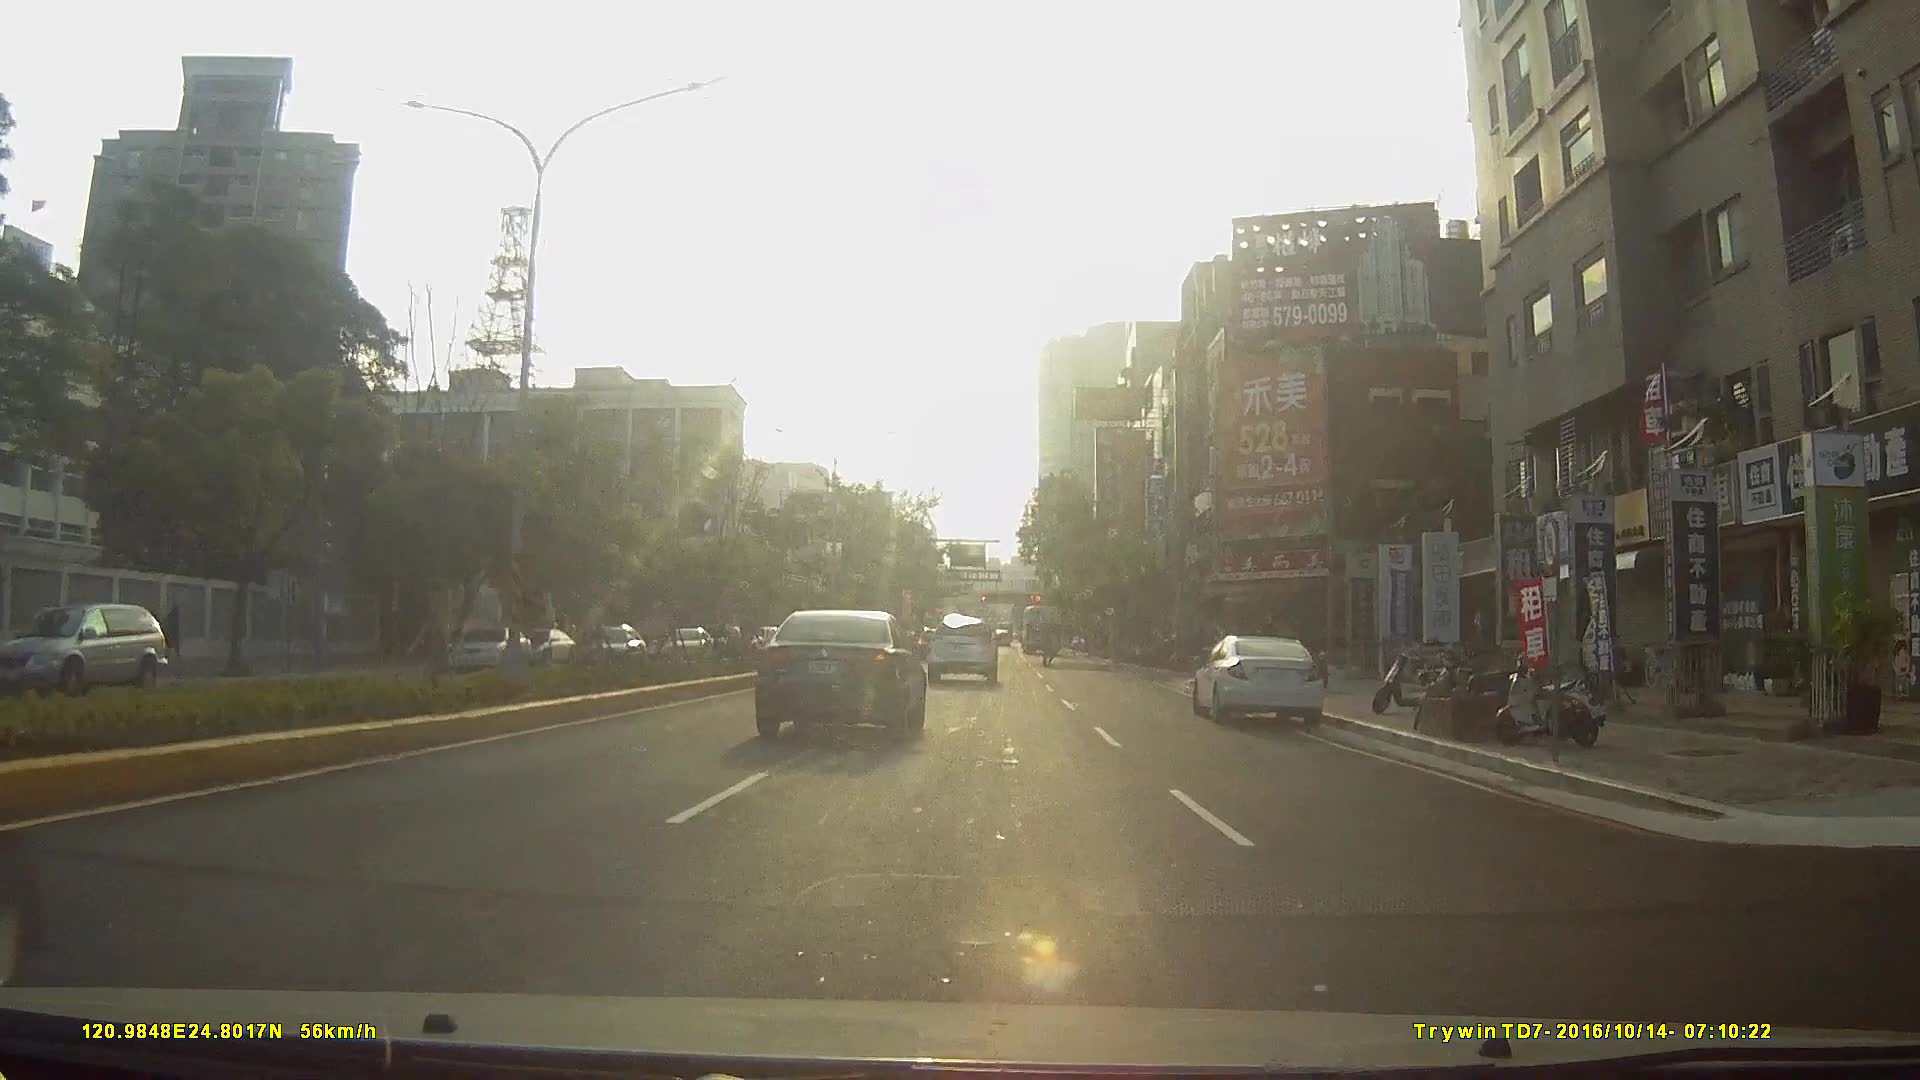pedestrian: (164, 604, 184, 665)
vehicle: (754, 606, 928, 741), (5, 604, 163, 705), (1193, 629, 1331, 725), (927, 612, 999, 684), (444, 623, 529, 672), (582, 624, 654, 680), (654, 627, 719, 668), (1018, 599, 1066, 652), (516, 624, 577, 661)
